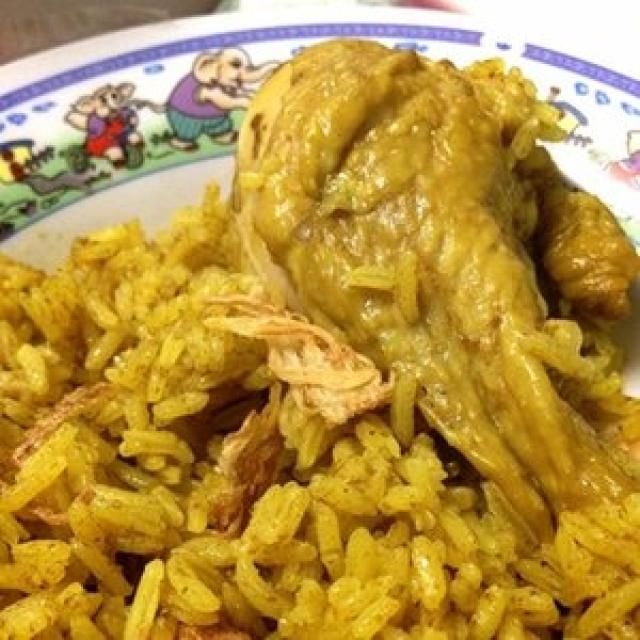米饭主食: (8, 32, 614, 631)
